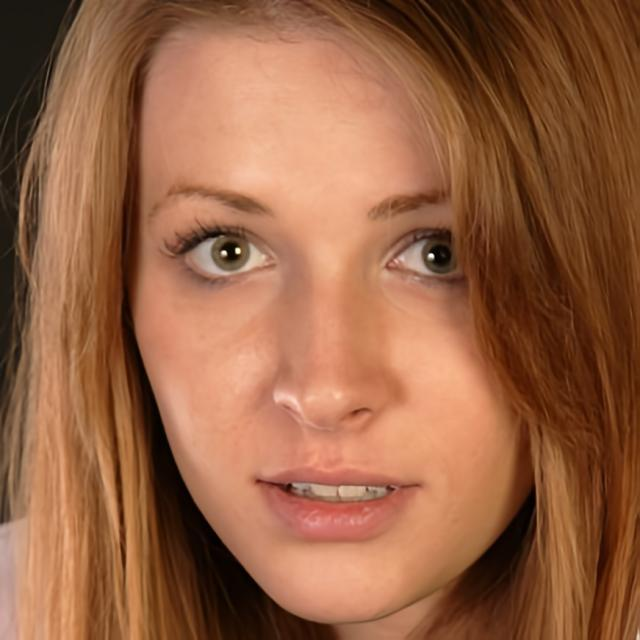surprise: (125, 0, 540, 627)
